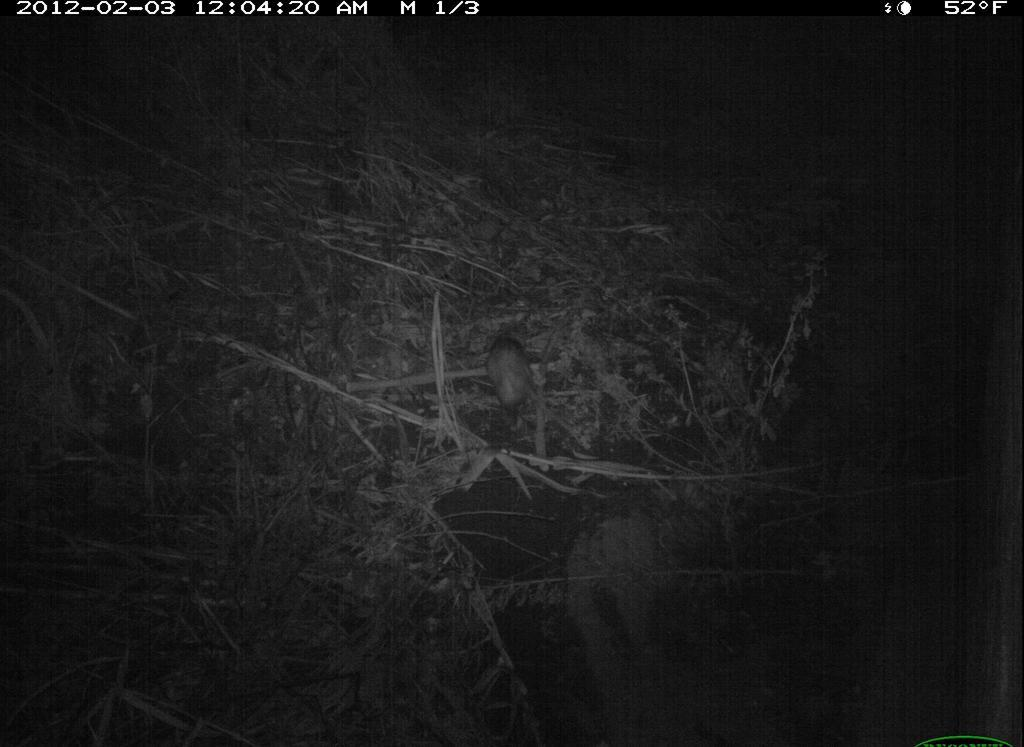opossum: (478, 323, 577, 442)
